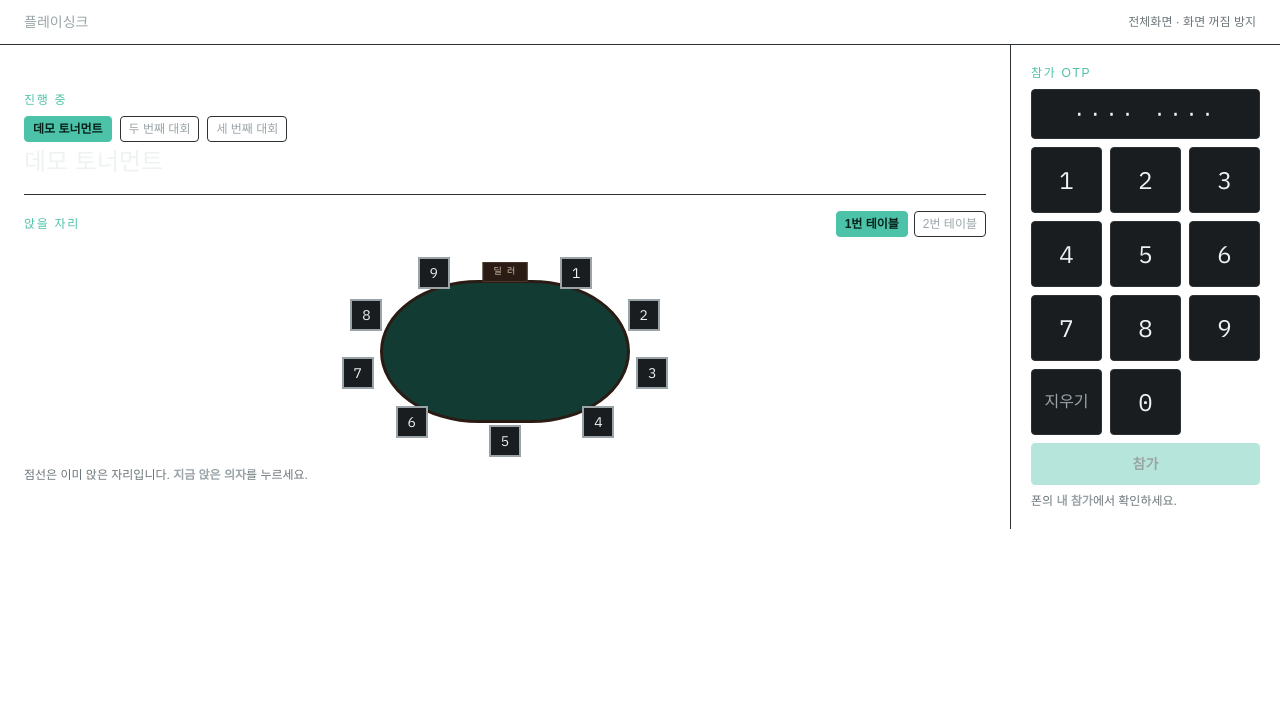
WaitingClient — 대회 전환 › 대회 전환이 네트워크 실패로 던져도 안내가 뜬다
Click the button with test id "pick-tournament-t2".
click(160, 128)  # box [120,116,200,142]
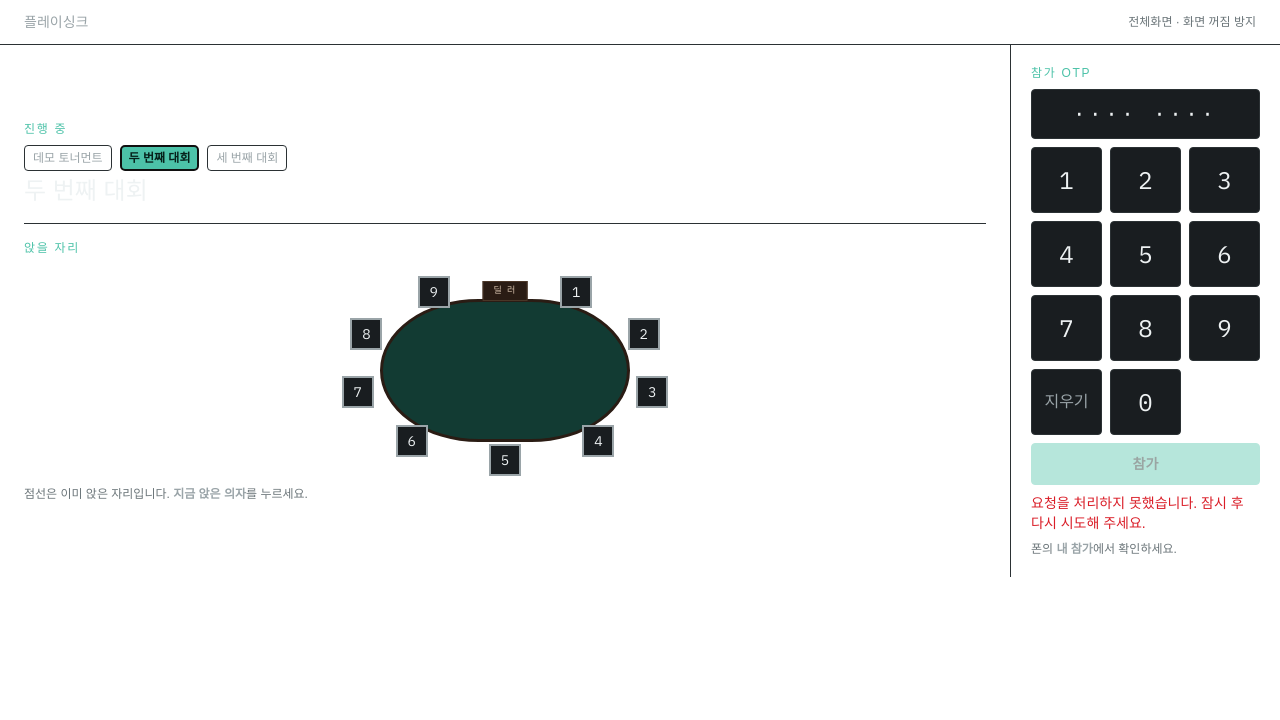
Result: the text "요청을 처리하지 못했습니다. 잠시 후 다시 시도해 주세요." is shown at [1031,493,1260,533]
